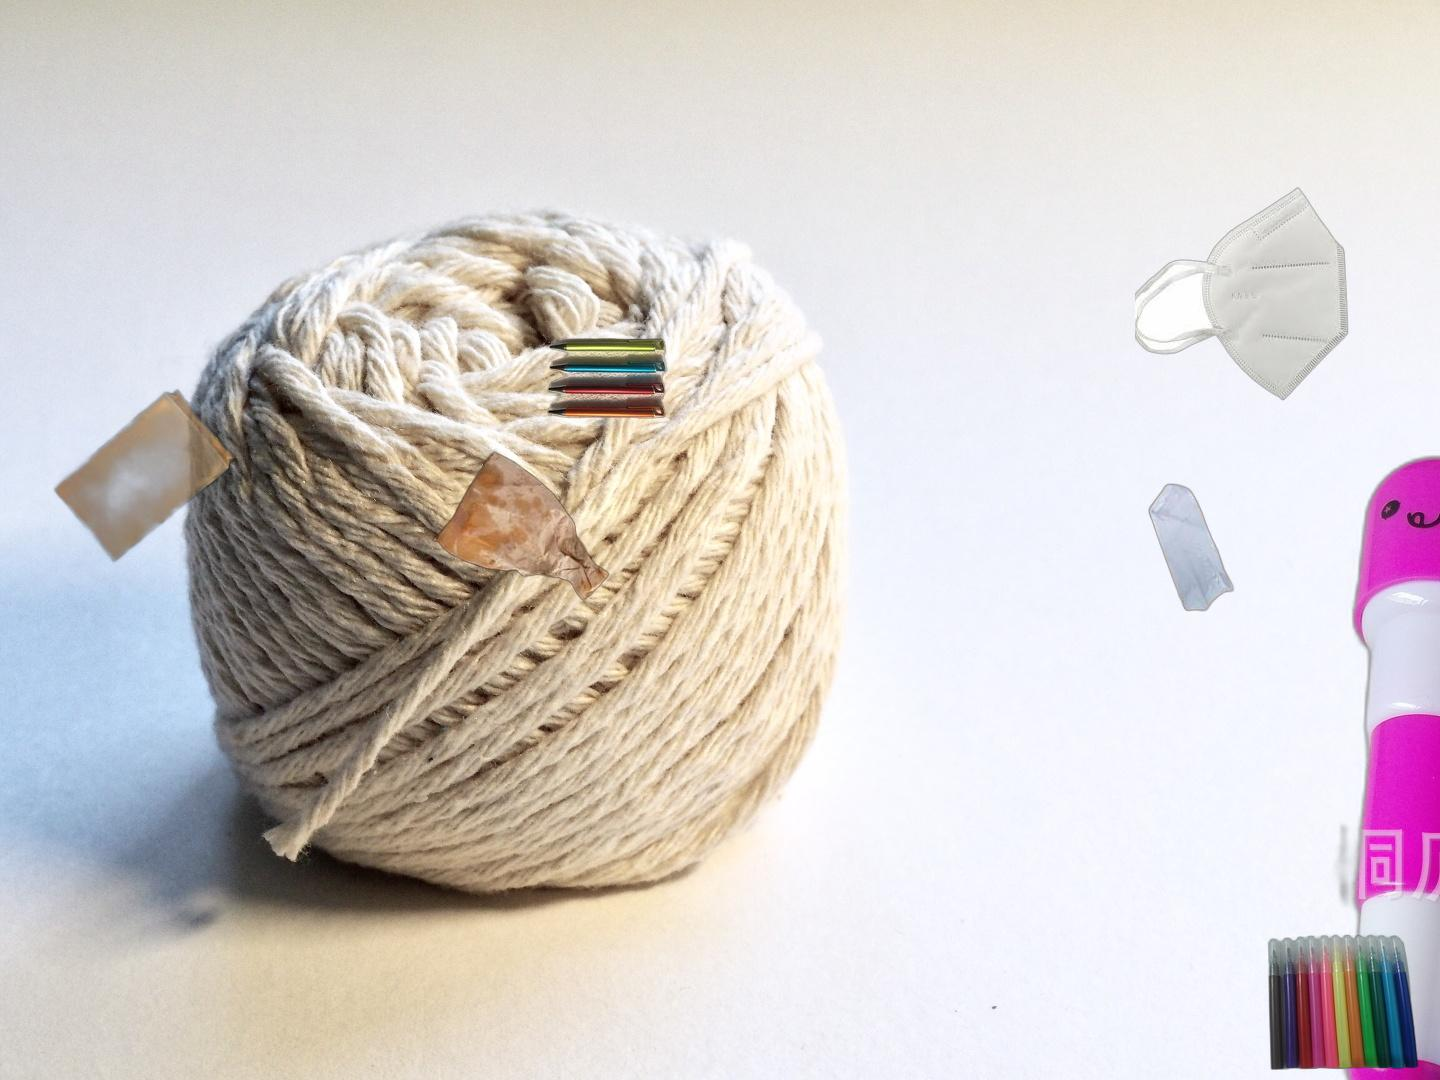paper-bag: (5, 354, 303, 651), (429, 449, 617, 602)
penholder: (1328, 449, 1440, 1080), (1267, 933, 1440, 1073), (545, 335, 671, 421)
plastic-bag: (1146, 481, 1236, 613)
trash: (1135, 185, 1352, 403)
